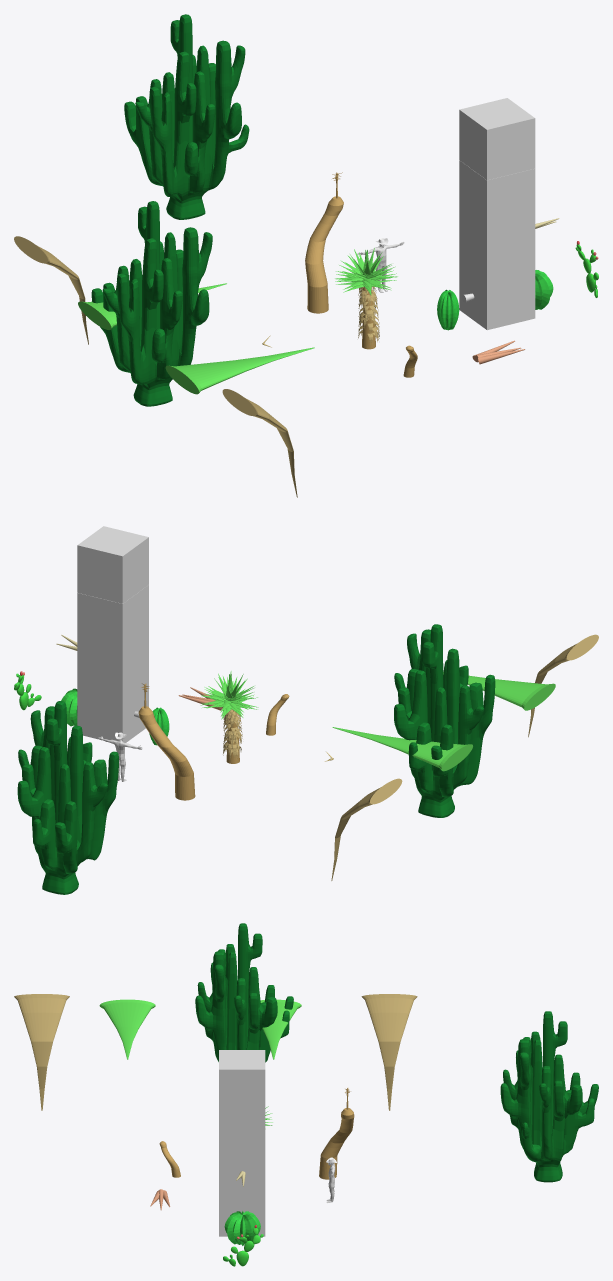
File: juca1.fbx
3 renders of one model, top to bottom at view 1: azimuth 30°, elevation 25°; view 2: azimuth 150°, elevation 25°; view 3: azimuth 270°, elevation 25°, orthographic. The views are drawn at different scales.
Visible parts, largest first — view 1: Plane, Plane.001, Cube.006, Cube.005, Cube.004, Cube.003, plant3, leaf1, leaf2, leaf2.001, leaf1.001, Cactus4; view 2: Plane, Plane.001, Cube.006, Cube.004, Cube.005, Cube.003, plant3, leaf1.001, leaf1, leaf2.001, leaf2; view 3: Plane, Plane.001, Cube.006, leaf2.001, leaf2, Cube.005, Cube.004, leaf1, Cube.003, plant3, CactusBody.003, leaf1.001 (+1 smaller).
Boxes of the visible parts, bbox=[...] form: Plane: bbox=[124, 14, 249, 219]; Plane.001: bbox=[91, 201, 212, 406]; Cube.006: bbox=[459, 98, 535, 180]; Cube.005: bbox=[459, 160, 535, 230]; Cube.004: bbox=[459, 211, 535, 279]; Cube.003: bbox=[459, 260, 535, 330]; plant3: bbox=[305, 172, 343, 313]; leaf1: bbox=[165, 347, 314, 394]; leaf2: bbox=[222, 389, 297, 497]; leaf2.001: bbox=[14, 236, 88, 344]; leaf1.001: bbox=[78, 283, 226, 329]; Cactus4: bbox=[437, 289, 459, 330]; Plane: bbox=[17, 701, 118, 894]; Plane.001: bbox=[394, 624, 495, 817]; Cube.006: bbox=[77, 526, 148, 603]; Cube.004: bbox=[77, 631, 148, 697]; Cube.005: bbox=[77, 585, 148, 650]; Cube.003: bbox=[77, 679, 148, 742]; plant3: bbox=[138, 683, 195, 800]; leaf1.001: bbox=[332, 727, 472, 771]; leaf1: bbox=[443, 672, 555, 710]; leaf2.001: bbox=[331, 778, 402, 880]; leaf2: bbox=[528, 634, 598, 737]; Plane: bbox=[500, 1011, 598, 1182]; Plane.001: bbox=[195, 923, 293, 1062]; Cube.006: bbox=[219, 1050, 265, 1111]; leaf2.001: bbox=[361, 994, 417, 1110]; leaf2: bbox=[14, 994, 69, 1110]; Cube.005: bbox=[219, 1111, 265, 1153]; Cube.004: bbox=[219, 1153, 265, 1194]; leaf1: bbox=[99, 999, 155, 1059]; Cube.003: bbox=[219, 1194, 265, 1236]; plant3: bbox=[319, 1088, 354, 1179]; CactusBody.003: bbox=[224, 1211, 260, 1245]; leaf1.001: bbox=[260, 999, 301, 1059].
Bounding box in the file's own units: 2046 × 863 × 2526.
